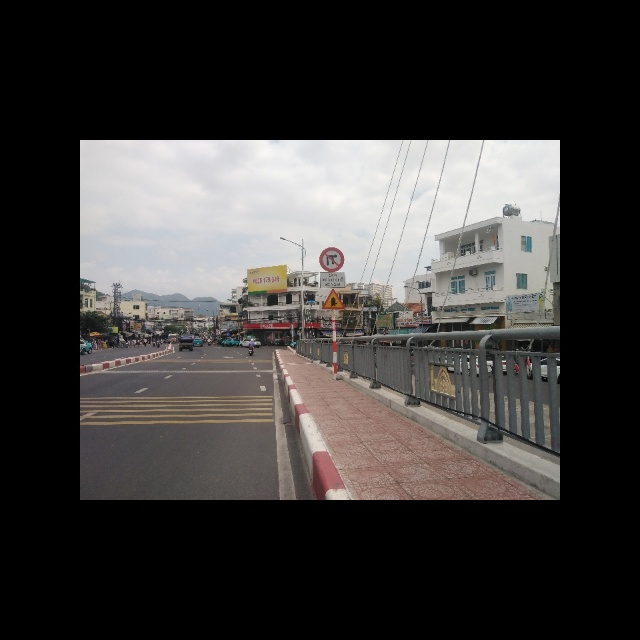Cấm quay đầu và rẽ phải: (319, 247, 344, 272)
Giao nhau với đường không ưu tiên: (322, 289, 344, 310)
